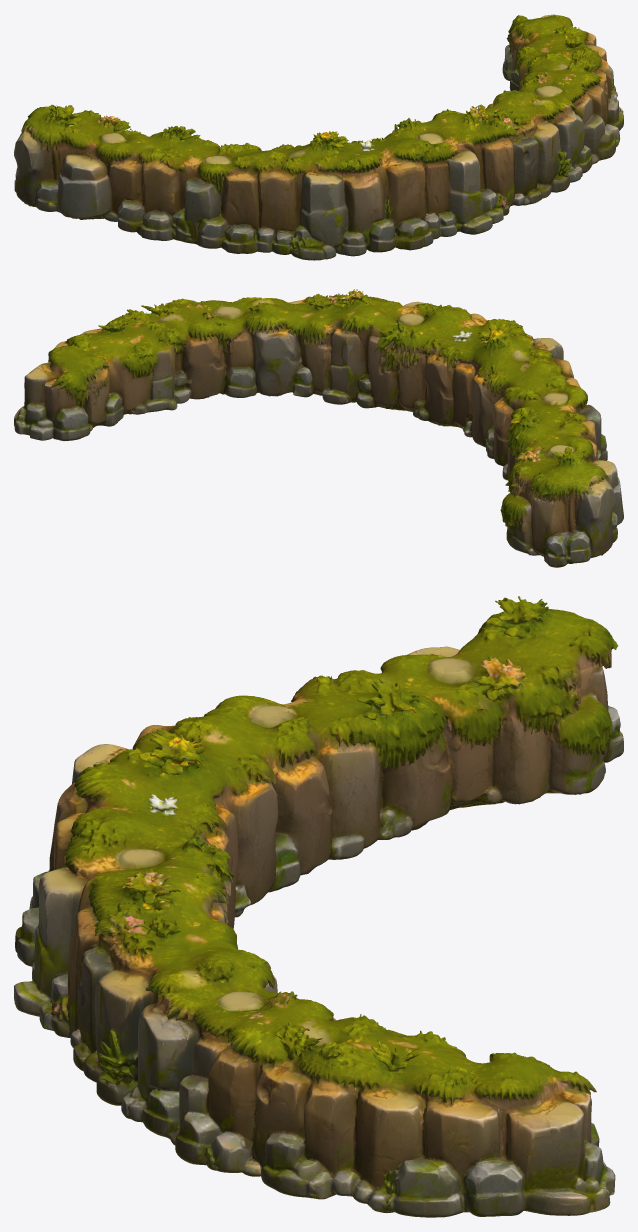
File: Meshy_AI_Sunny_Sprout_0611215819_texture.fbx
The picture shows the model from 3 angles, top to bottom: view 1: azimuth 30°, elevation 25°; view 2: azimuth 150°, elevation 25°; view 3: azimuth 270°, elevation 25°; orthographic projection. The views are drawn at different scales.
Parts seen in each view (by area): view 1: Mesh_0; view 2: Mesh_0; view 3: Mesh_0.
Boxes of the visible parts, left/top/right/bottom form: Mesh_0: left=14, top=14, right=623, bottom=260; Mesh_0: left=14, top=289, right=623, bottom=567; Mesh_0: left=14, top=596, right=623, bottom=1217.
Size of the model in its own units: 190 by 31.1 by 99.78.
Materials: 1 (1 with a texture image).
